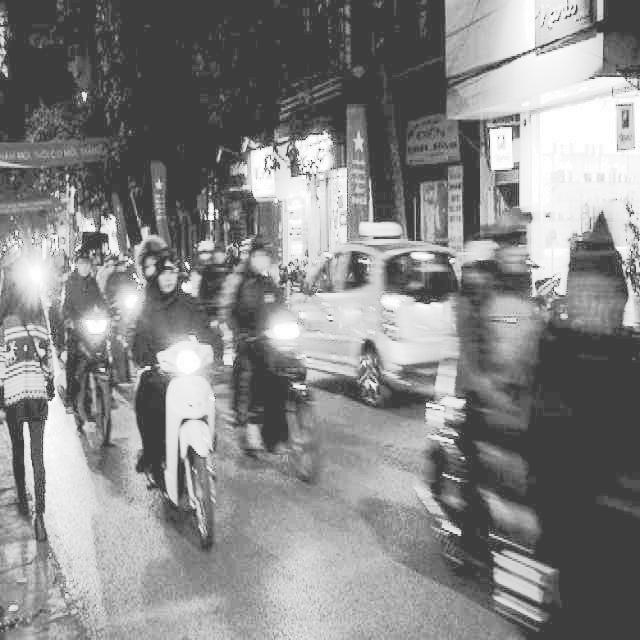Car: (294, 232, 462, 402)
Motorcycle: (147, 317, 219, 551), (241, 292, 316, 484), (64, 305, 126, 449), (121, 276, 146, 356)
Person: (0, 247, 49, 539), (135, 250, 222, 381)
